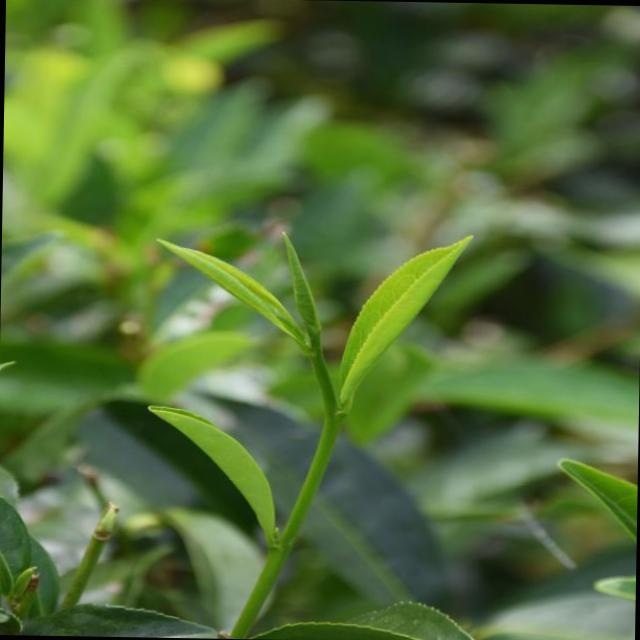Stem: (309, 412, 345, 475)
